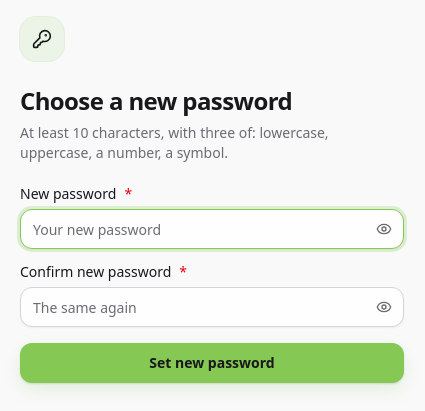
it: choosing a new password › takes the token from the link, out of the address bar, and sets the password
This screenshot has width=425, height=411.
Type "Brand-new-pass-2026" into the password field labelled "New password *" at (212, 229), box x1=20 y1=209 x2=404 y2=249
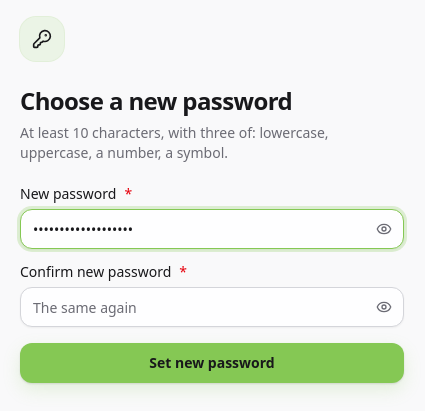
Type "Brand-new-pass-2026" into the password field labelled "Confirm new password *" at (212, 307), box x1=20 y1=287 x2=404 y2=327
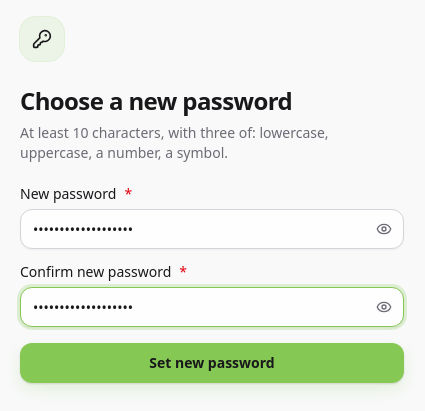
Click the button "Set new password" at (212, 363), box x1=20 y1=343 x2=404 y2=383
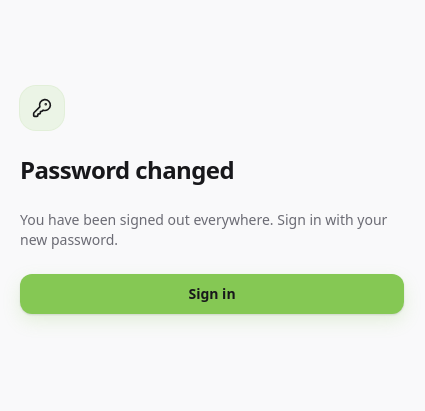
Now the heading "Password changed" is shown, box x1=20 y1=153 x2=234 y2=186
